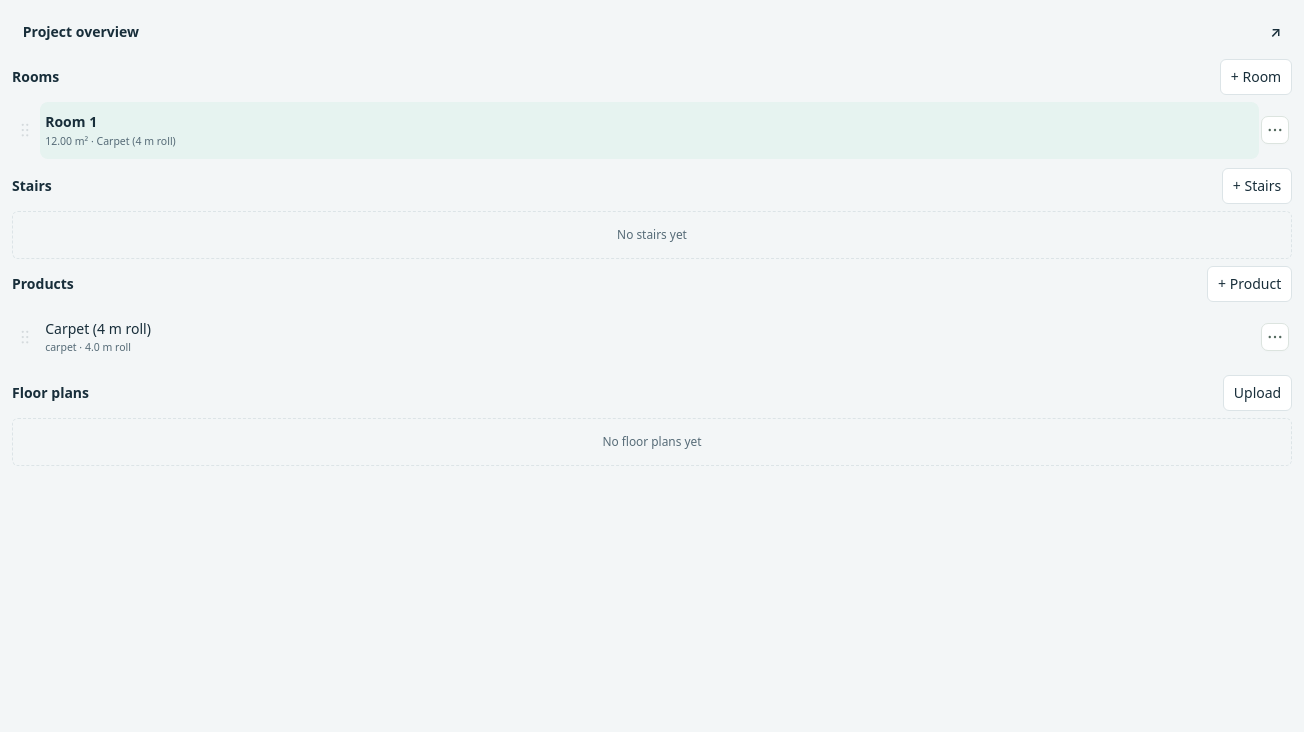
it: organising from the sidebar › warns that deleting the last product leaves spaces unassigned and closes actions with Escape
The width and height of the screenshot is (1304, 732).
Click the button named "Product 1 actions" at [1275, 337], box [1261,323,1289,351]
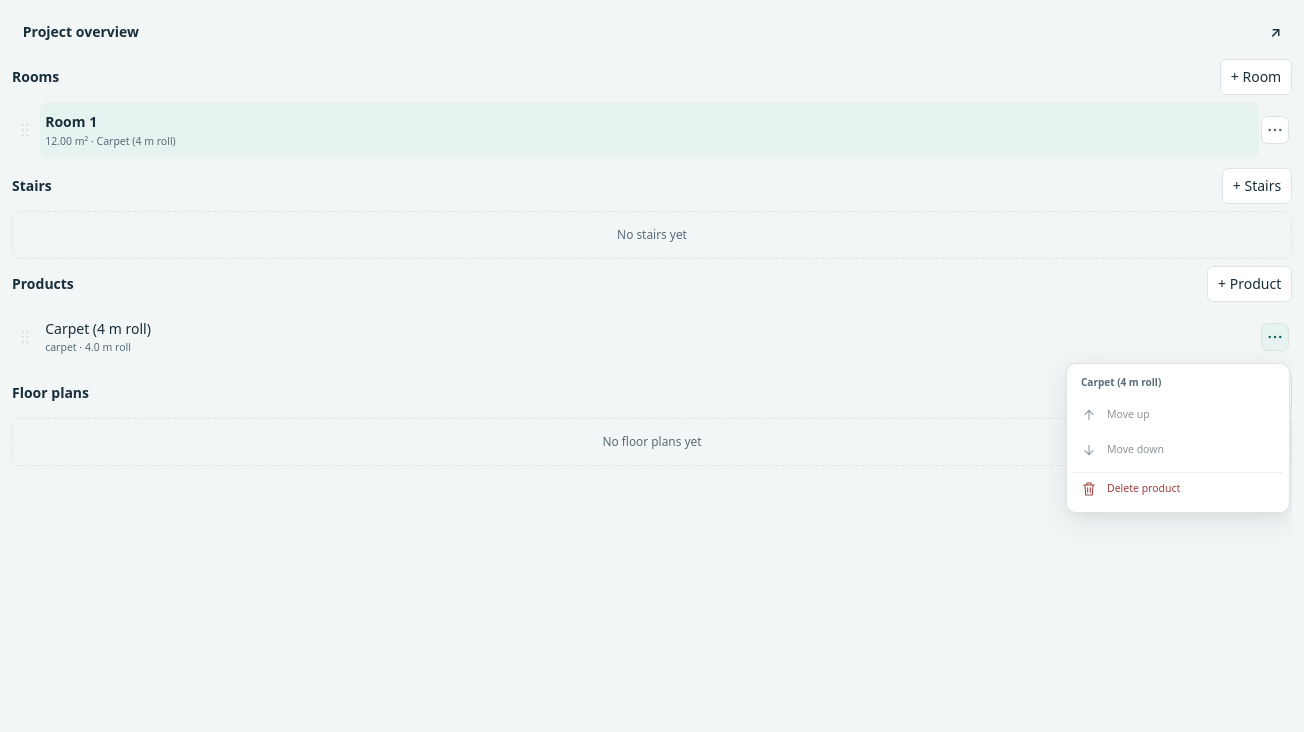
Click the button "Delete product" at [1178, 489], box [1073,472,1283,506]
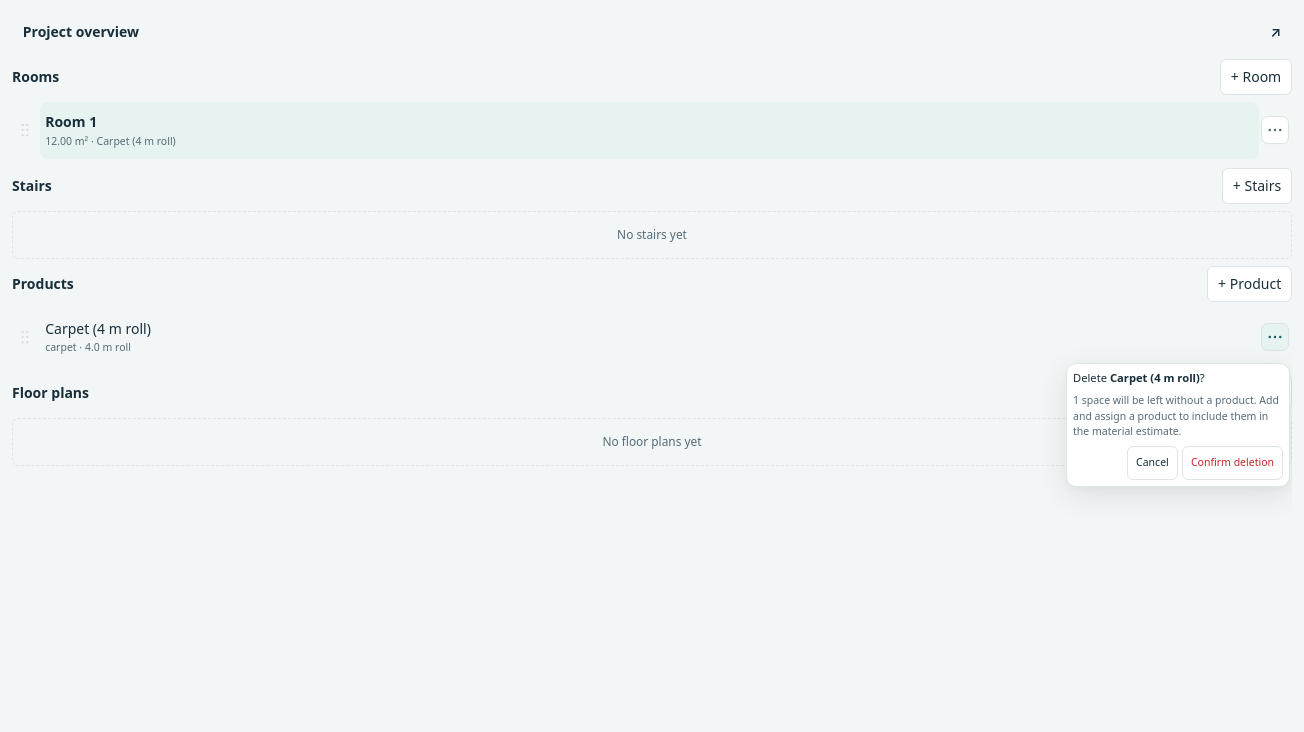
Now the text "1 space will be left without a product" is shown, box [1073,393,1279,438]
Press Escape in the button "Confirm deletion", box [1182,446,1283,480]
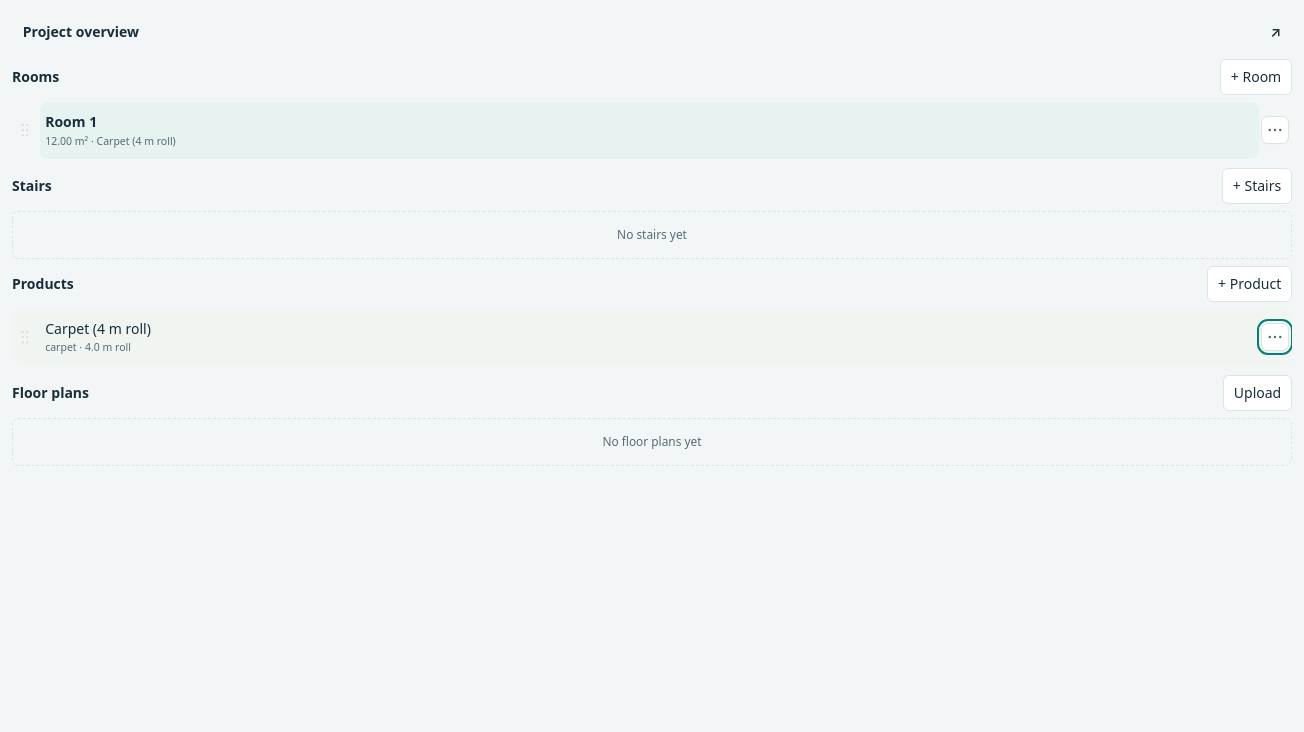
Now the button "Confirm deletion" is gone
